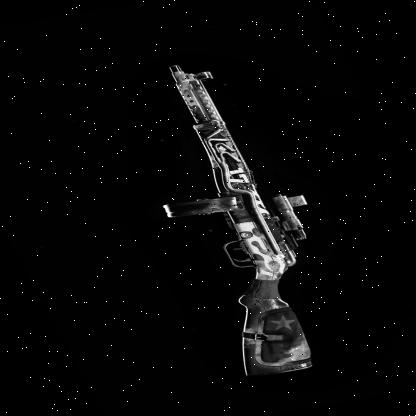rifle: (64, 49, 398, 383)
